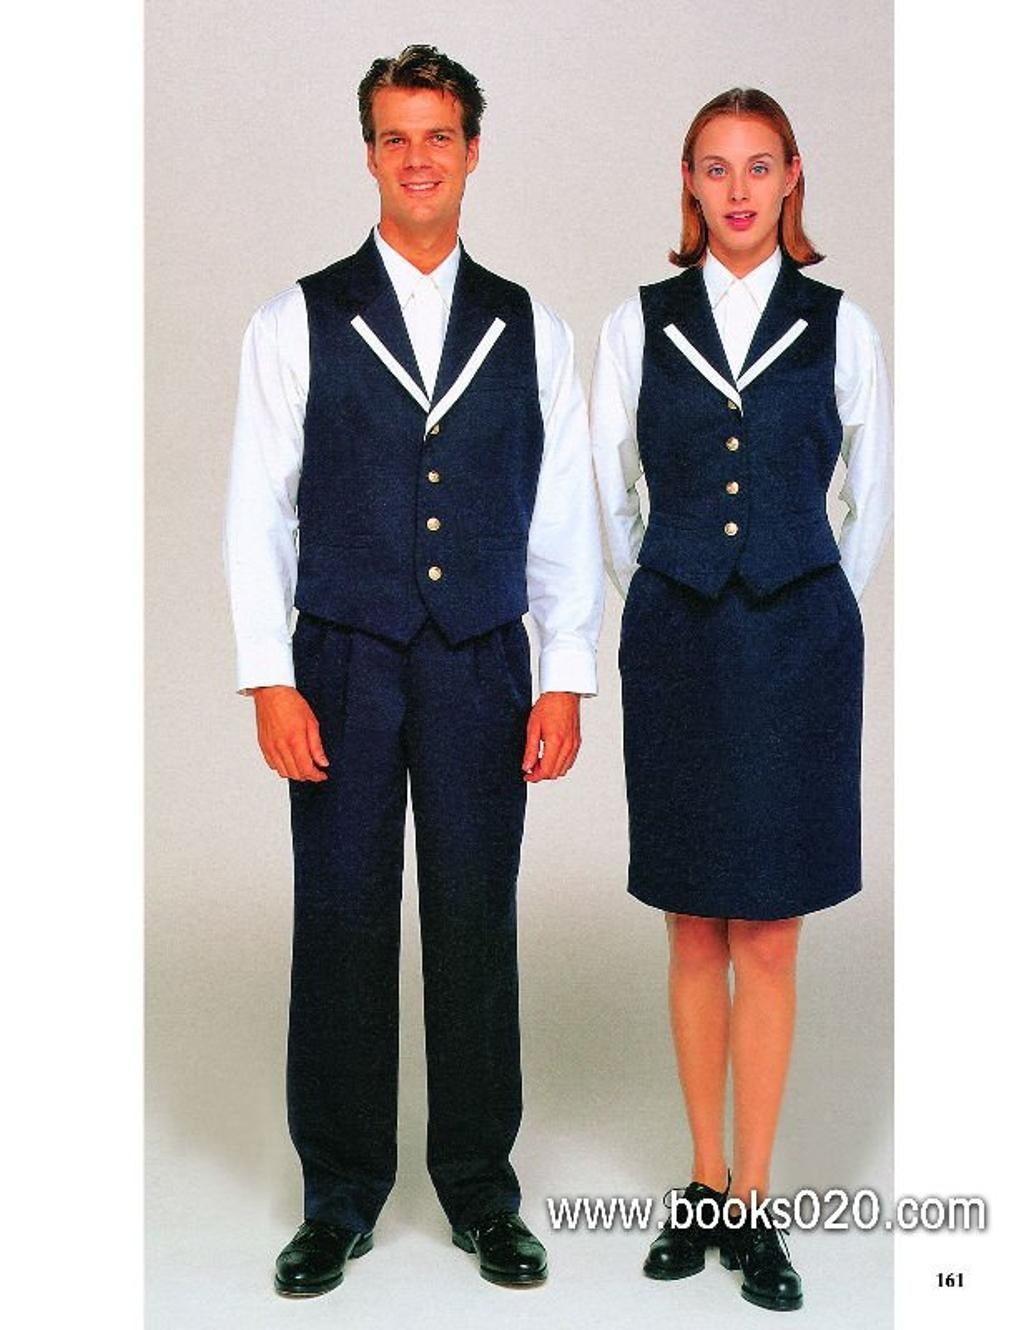face: (369, 86, 470, 224), (691, 114, 782, 247)
